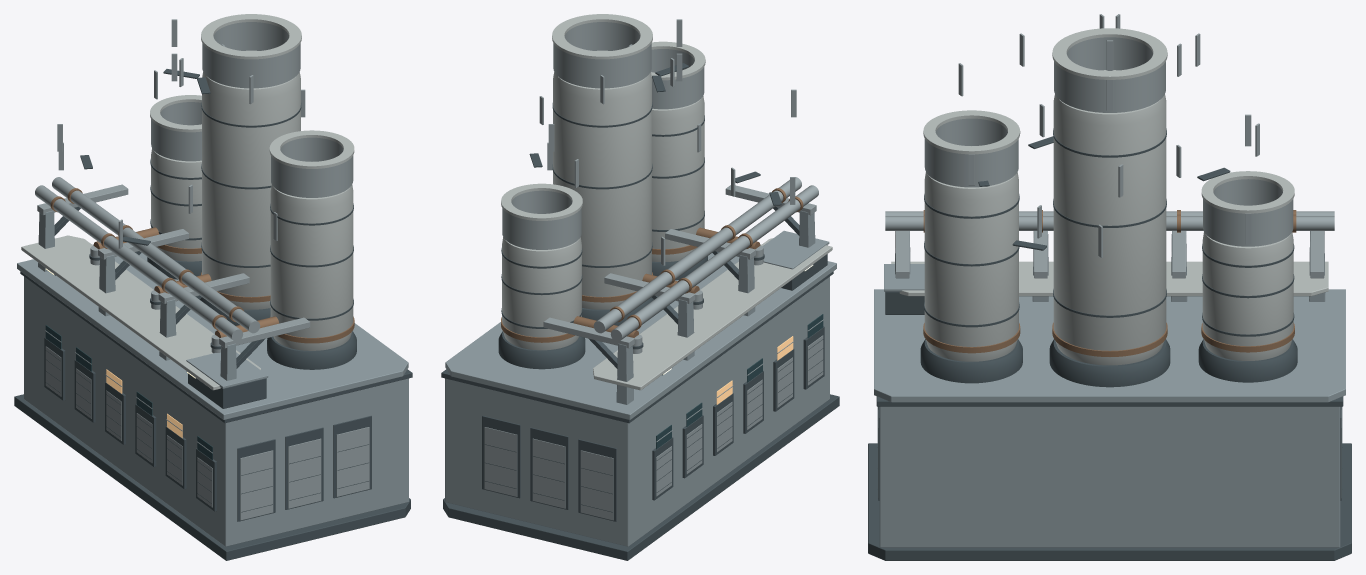
The model's file is Nocturne_ThermalExchange_Works.fbx.
The picture shows the model from 3 angles, left to right: view 1: azimuth 30°, elevation 25°; view 2: azimuth 150°, elevation 25°; view 3: azimuth 270°, elevation 25°; orthographic projection. The views are drawn at different scales.
Parts seen in each view (by area): view 1: Nocturne_ThermalExchange_Works; view 2: Nocturne_ThermalExchange_Works; view 3: Nocturne_ThermalExchange_Works.
Part boxes in pixels (left/top/right/bottom): Nocturne_ThermalExchange_Works: left=14, top=14, right=412, bottom=560; Nocturne_ThermalExchange_Works: left=441, top=14, right=839, bottom=560; Nocturne_ThermalExchange_Works: left=868, top=14, right=1351, bottom=560.
Size of the model in its own units: 51.36 by 90.95 by 84.
